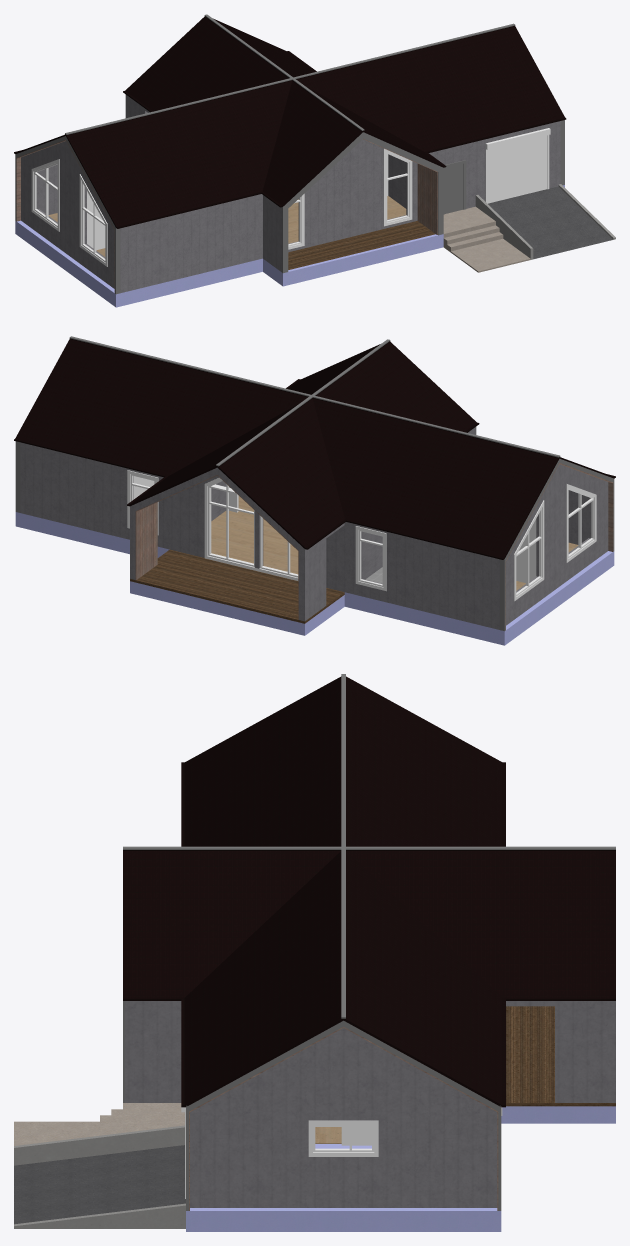
The model's file is barndominium-1.glb.
3 views of the same model, one above another, from view 1: azimuth 30°, elevation 25°; view 2: azimuth 150°, elevation 25°; view 3: azimuth 270°, elevation 25° (orthographic). The views are drawn at different scales.
Parts seen in each view (by area): view 1: mesh-d6dd9b1d-61d2-43c7-b0de-41c0c09cf7ff, mesh-aeeb6b12-f37b-41fd-8aca-9eaac60da9e7, mesh-eda948b2-f0e3-40c2-854c-0edfcd5e2c77, mesh-a2e46576-421f-4681-b34b-0d94b949061e, mesh-a7f30fba-69c9-4b48-8087-2397d5b32d38, mesh-ab35f994-155e-4e7f-b261-7231a49b5054, mesh-e30bea6f-ed1b-4cce-be19-928ef6b3a875, mesh-a934644b-cd0e-46f3-a94a-d68f258ce307, mesh-a019d583-82e2-4a0e-bf9c-76fa01e219cb, mesh-a13112ac-cec4-4e1d-8c64-3361725e5536, mesh-ed919bdd-fc53-4650-a43d-cc6e90e56c85, mesh-a1b7f9d7-98ce-4450-ae36-96d69396d62a (+15 smaller); view 2: mesh-d6dd9b1d-61d2-43c7-b0de-41c0c09cf7ff, mesh-aeeb6b12-f37b-41fd-8aca-9eaac60da9e7, mesh-eda948b2-f0e3-40c2-854c-0edfcd5e2c77, mesh-ae3a9e8d-6d8c-4a5c-aa04-25362dee3a57, mesh-a7f30fba-69c9-4b48-8087-2397d5b32d38, mesh-a93221f3-7435-49d2-8071-2eebc454ef25, mesh-a66e98a8-5d83-4652-8321-09f2a3beda1a, mesh-ed919bdd-fc53-4650-a43d-cc6e90e56c85, mesh-a6975fef-2003-4a51-a876-18a11270651e, mesh-a807d6fc-3476-499d-acd8-57c8272424e1, mesh-a87f4edc-6df2-414a-aa2a-6cd508942f7f, mesh-e5a60d40-9dc9-421a-98b2-63424e6fa70a (+12 smaller); view 3: mesh-d6dd9b1d-61d2-43c7-b0de-41c0c09cf7ff, mesh-aeeb6b12-f37b-41fd-8aca-9eaac60da9e7, mesh-eda948b2-f0e3-40c2-854c-0edfcd5e2c77, mesh-a2e46576-421f-4681-b34b-0d94b949061e, mesh-a7f30fba-69c9-4b48-8087-2397d5b32d38, mesh-ae3a9e8d-6d8c-4a5c-aa04-25362dee3a57, mesh-ab35f994-155e-4e7f-b261-7231a49b5054, mesh-a944116b-b01a-47d3-84b4-88d6ae59dfba, mesh-a7aedd77-6054-4199-ad95-bd08ef9a32f0, mesh-a6b61f01-9286-4879-9585-06b97b397b8a, mesh-a66e98a8-5d83-4652-8321-09f2a3beda1a, mesh-a12eb5fe-229a-490b-b168-7e87e81f3601 (+3 smaller).
Part boxes in pixels (left/top/right/bottom): mesh-d6dd9b1d-61d2-43c7-b0de-41c0c09cf7ff: left=14, top=25, right=566, bottom=228; mesh-aeeb6b12-f37b-41fd-8aca-9eaac60da9e7: left=21, top=94, right=560, bottom=293; mesh-eda948b2-f0e3-40c2-854c-0edfcd5e2c77: left=123, top=16, right=446, bottom=207; mesh-a2e46576-421f-4681-b34b-0d94b949061e: left=488, top=186, right=612, bottom=259; mesh-a7f30fba-69c9-4b48-8087-2397d5b32d38: left=15, top=185, right=564, bottom=307; mesh-ab35f994-155e-4e7f-b261-7231a49b5054: left=443, top=206, right=530, bottom=272; mesh-e30bea6f-ed1b-4cce-be19-928ef6b3a875: left=488, top=135, right=546, bottom=203; mesh-a934644b-cd0e-46f3-a94a-d68f258ce307: left=263, top=234, right=443, bottom=286; mesh-a019d583-82e2-4a0e-bf9c-76fa01e219cb: left=288, top=221, right=435, bottom=269; mesh-a13112ac-cec4-4e1d-8c64-3361725e5536: left=282, top=132, right=443, bottom=273; mesh-ed919bdd-fc53-4650-a43d-cc6e90e56c85: left=65, top=23, right=515, bottom=134; mesh-a1b7f9d7-98ce-4450-ae36-96d69396d62a: left=417, top=164, right=437, bottom=234; mesh-d6dd9b1d-61d2-43c7-b0de-41c0c09cf7ff: left=14, top=338, right=615, bottom=559; mesh-aeeb6b12-f37b-41fd-8aca-9eaac60da9e7: left=20, top=427, right=608, bottom=629; mesh-eda948b2-f0e3-40c2-854c-0edfcd5e2c77: left=127, top=341, right=479, bottom=549; mesh-ae3a9e8d-6d8c-4a5c-aa04-25362dee3a57: left=130, top=549, right=344, bottom=623; mesh-a7f30fba-69c9-4b48-8087-2397d5b32d38: left=15, top=512, right=614, bottom=645; mesh-a93221f3-7435-49d2-8071-2eebc454ef25: left=211, top=496, right=578, bottom=590; mesh-a66e98a8-5d83-4652-8321-09f2a3beda1a: left=130, top=581, right=344, bottom=635; mesh-ed919bdd-fc53-4650-a43d-cc6e90e56c85: left=69, top=336, right=560, bottom=457; mesh-a6975fef-2003-4a51-a876-18a11270651e: left=135, top=502, right=157, bottom=580; mesh-a807d6fc-3476-499d-acd8-57c8272424e1: left=500, top=458, right=614, bottom=631; mesh-a87f4edc-6df2-414a-aa2a-6cd508942f7f: left=204, top=477, right=298, bottom=580; mesh-e5a60d40-9dc9-421a-98b2-63424e6fa70a: left=362, top=531, right=382, bottom=579; mesh-d6dd9b1d-61d2-43c7-b0de-41c0c09cf7ff: left=181, top=676, right=505, bottom=1107; mesh-aeeb6b12-f37b-41fd-8aca-9eaac60da9e7: left=125, top=1001, right=615, bottom=1207; mesh-eda948b2-f0e3-40c2-854c-0edfcd5e2c77: left=123, top=850, right=615, bottom=1000; mesh-a2e46576-421f-4681-b34b-0d94b949061e: left=14, top=1145, right=185, bottom=1224; mesh-a7f30fba-69c9-4b48-8087-2397d5b32d38: left=186, top=1144, right=501, bottom=1231; mesh-ae3a9e8d-6d8c-4a5c-aa04-25362dee3a57: left=506, top=1006, right=615, bottom=1106; mesh-ab35f994-155e-4e7f-b261-7231a49b5054: left=14, top=1103, right=184, bottom=1145; mesh-a944116b-b01a-47d3-84b4-88d6ae59dfba: left=14, top=1125, right=184, bottom=1165; mesh-a7aedd77-6054-4199-ad95-bd08ef9a32f0: left=186, top=1020, right=501, bottom=1210; mesh-a6b61f01-9286-4879-9585-06b97b397b8a: left=14, top=1203, right=185, bottom=1228; mesh-a66e98a8-5d83-4652-8321-09f2a3beda1a: left=501, top=1106, right=615, bottom=1123; mesh-a12eb5fe-229a-490b-b168-7e87e81f3601: left=123, top=846, right=615, bottom=849.
Bounding box in the file's own units: 21.24 × 6.2 × 15.75.
Materials: 12 (10 with a texture image).
